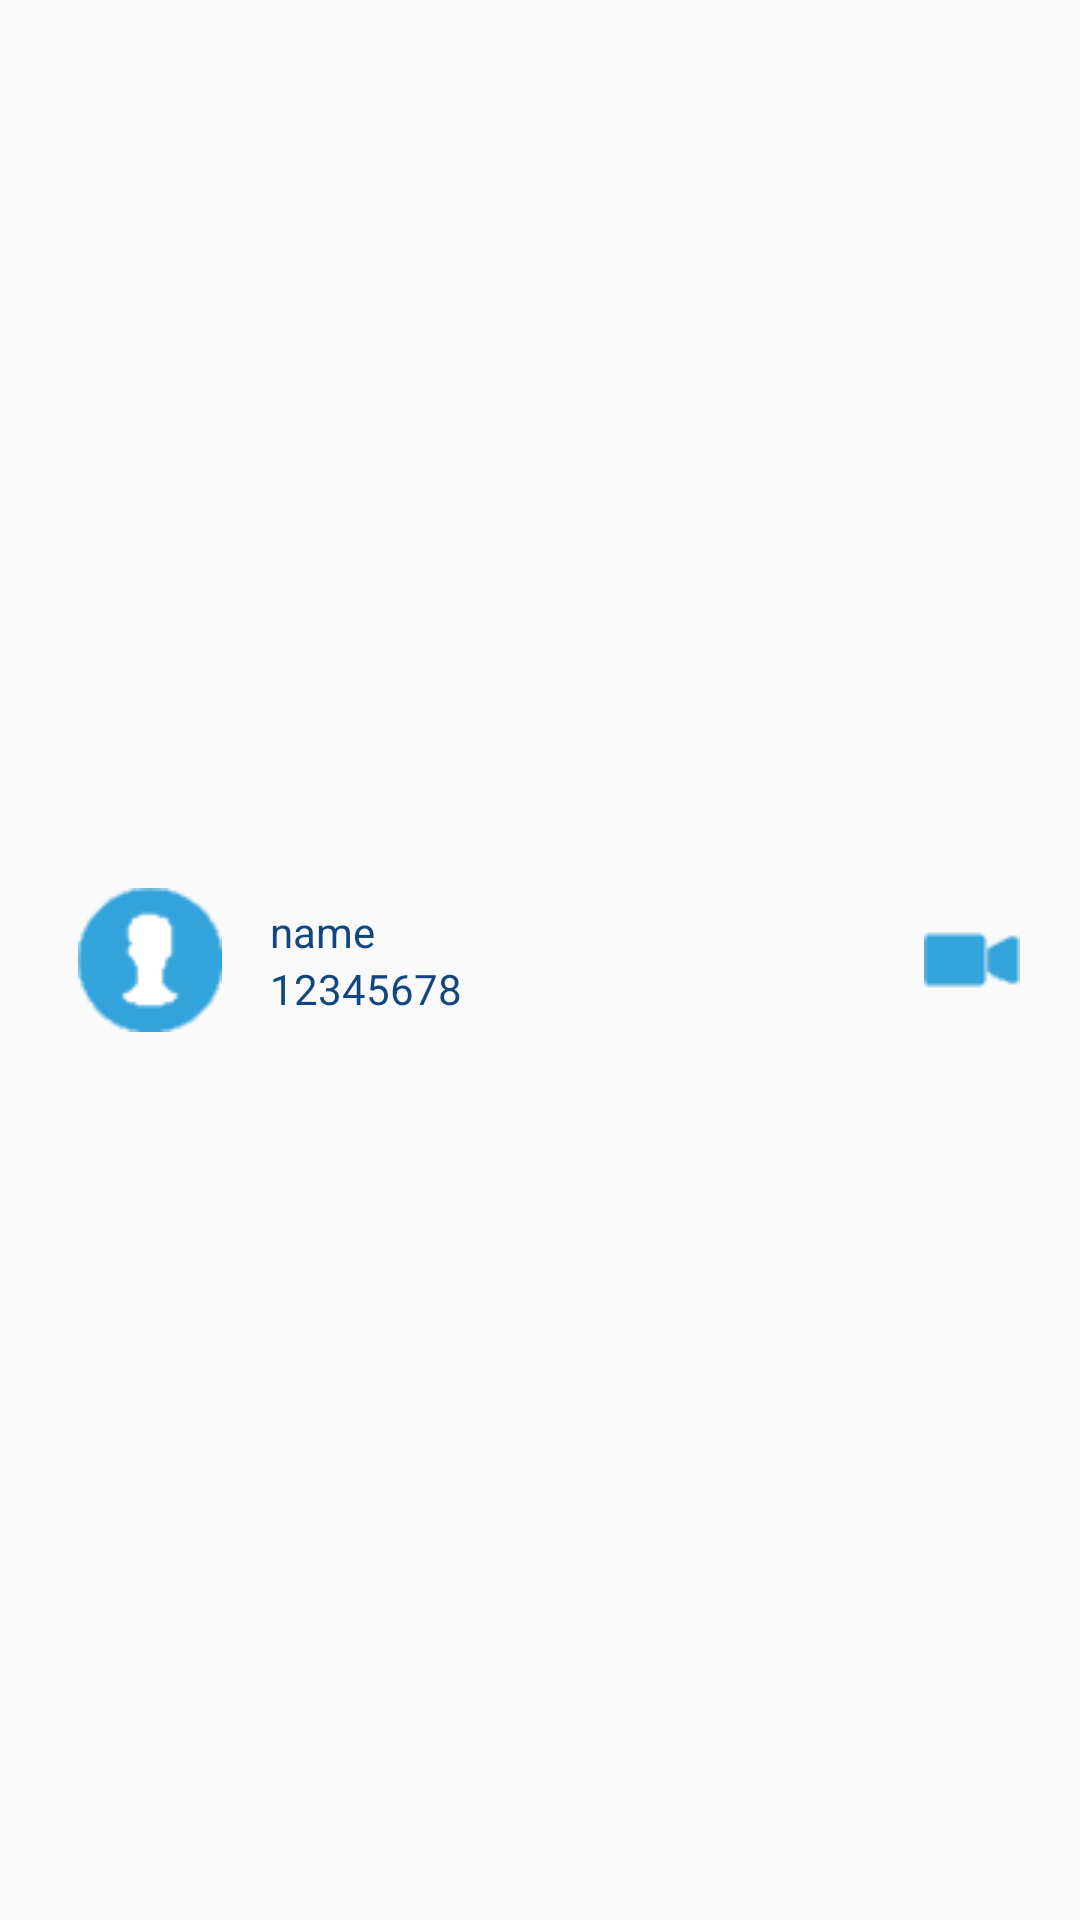

Screen size 1080px x 1920px. Icon name, then its box in pixels as (x1, y1, x2, y2):
contact list picture: (78, 888, 222, 1032)
video call: (924, 932, 1020, 988)
